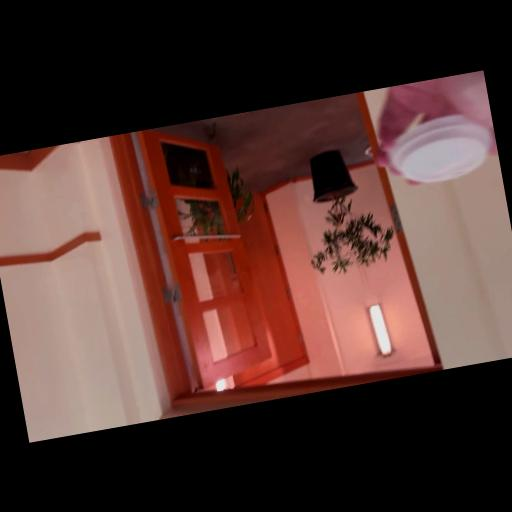lp_cup_lids: (378, 94, 498, 190)
